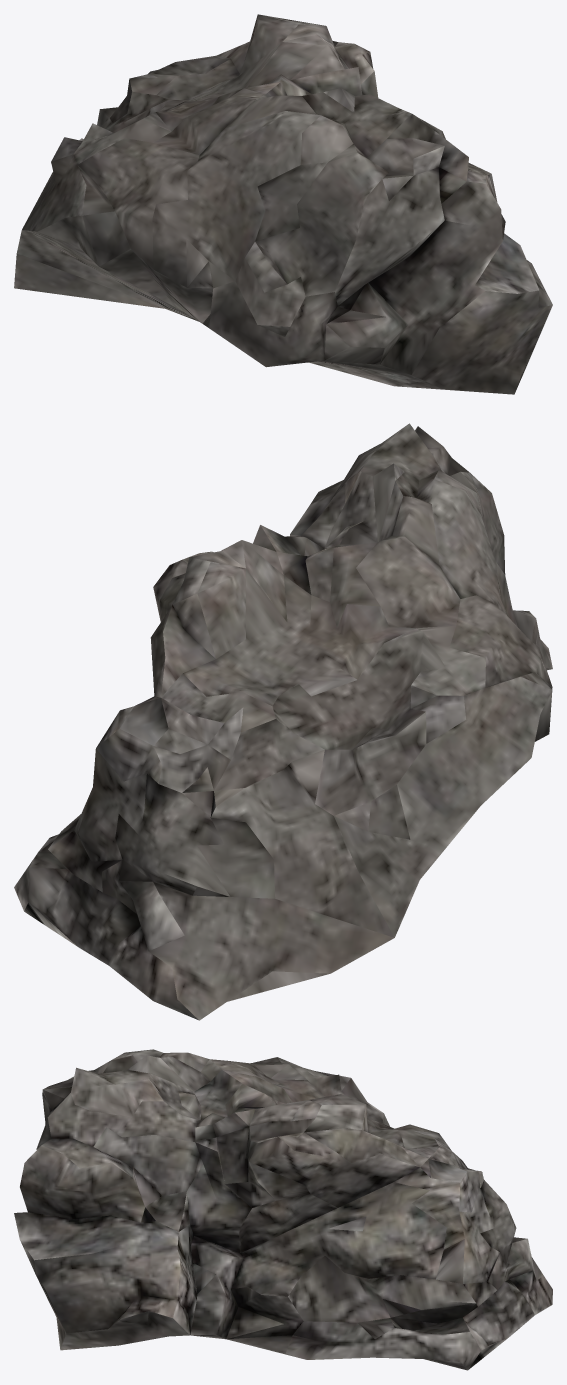
Rendered from rock_a-ilqCK97S.glb.
3 views of the same model, one above another, from view 1: azimuth 30°, elevation 25°; view 2: azimuth 150°, elevation 25°; view 3: azimuth 270°, elevation 25° (orthographic). The views are drawn at different scales.
Visible parts, largest first — view 1: rock_a; view 2: rock_a; view 3: rock_a.
Part boxes in pixels (bbox=[...]): rock_a: bbox=[14, 14, 552, 394]; rock_a: bbox=[14, 423, 552, 1020]; rock_a: bbox=[14, 1049, 552, 1370].
Bounding box in the file's own units: 0.9881 × 0.7751 × 1.4.
Materials: 1 (1 with a texture image).
